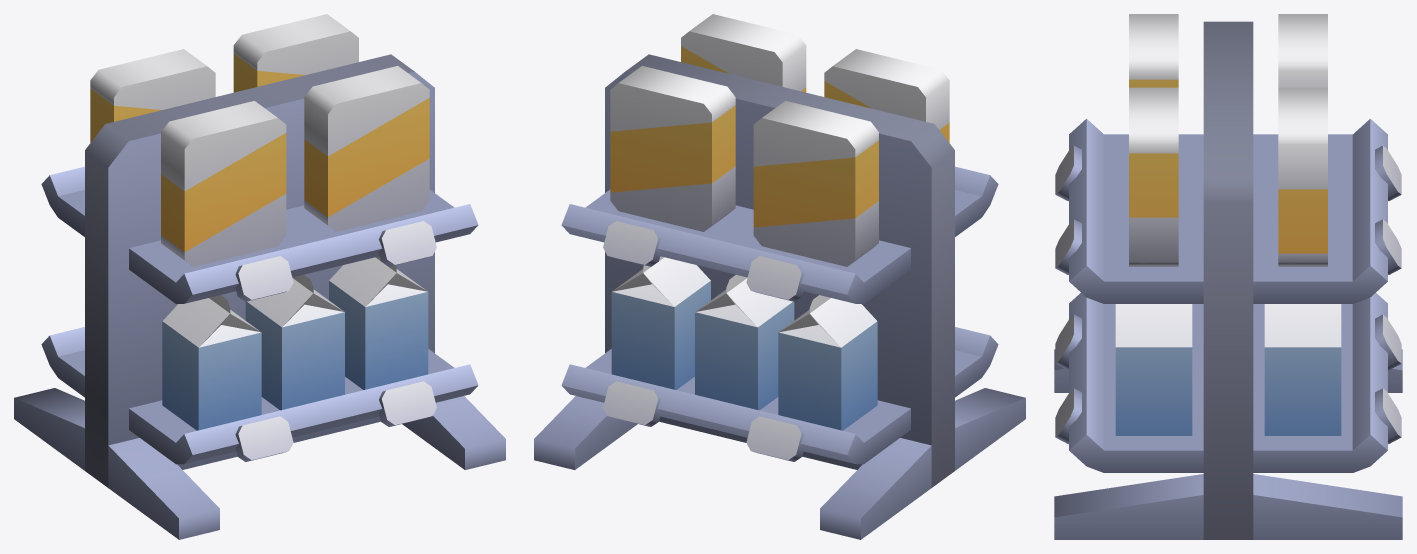
File: shelf-boxes.obj
3 renders of one model, left to right at view 1: azimuth 30°, elevation 25°; view 2: azimuth 150°, elevation 25°; view 3: azimuth 270°, elevation 25°, orthographic. The views are drawn at different scales.
Visible parts, largest first — view 1: shelf-boxes, box, carton; view 2: shelf-boxes, box, carton; view 3: shelf-boxes, box, carton.
Boxes of the visible parts, x1,y1,x2,y2 form: shelf-boxes: (14, 54, 505, 539); box: (90, 14, 429, 266); carton: (162, 256, 428, 430); shelf-boxes: (534, 54, 1025, 539); box: (610, 14, 949, 266); carton: (611, 256, 877, 430); shelf-boxes: (1054, 21, 1402, 539); box: (1129, 14, 1327, 266); carton: (1115, 304, 1341, 435).
Size of the model in its own units: 0.8 by 0.85 by 0.7.
1 material, 1 textured.
